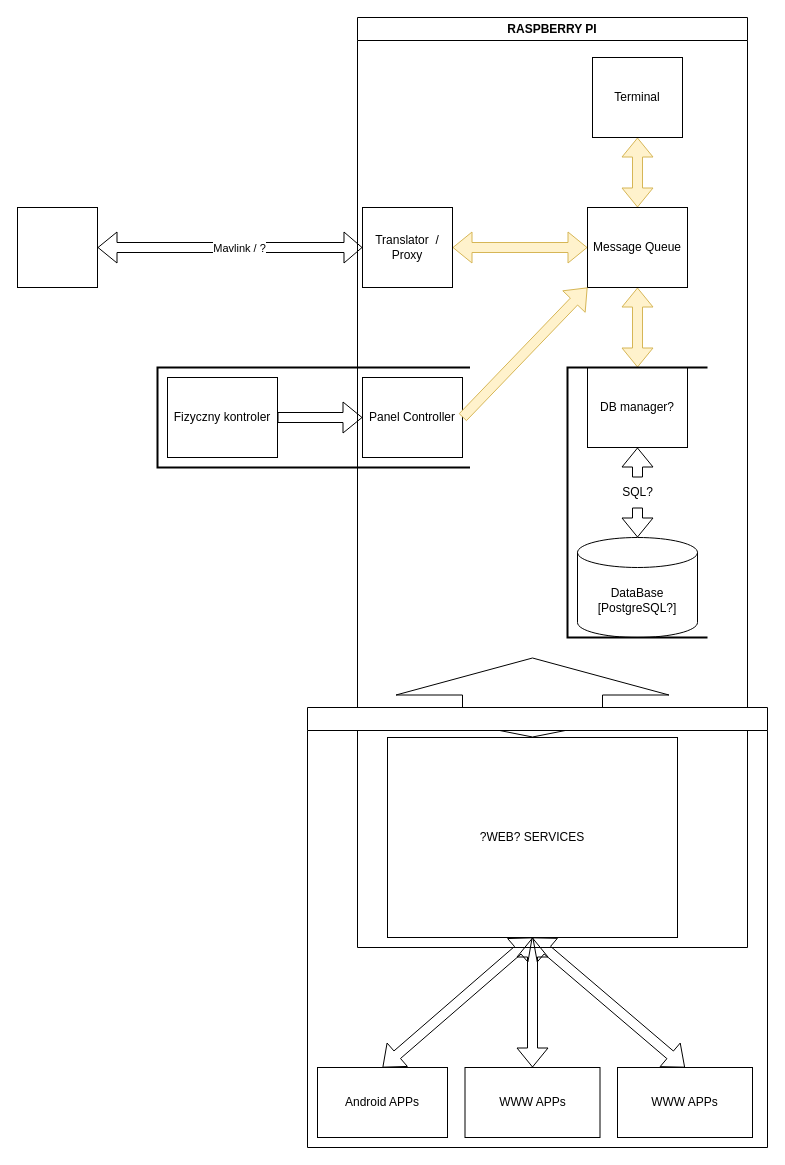
This 785x1165 diagram has some shape labels left out. Each missing label, with the centre of its shape:
Radio: the point at 57,247
User services: the point at 537,927
